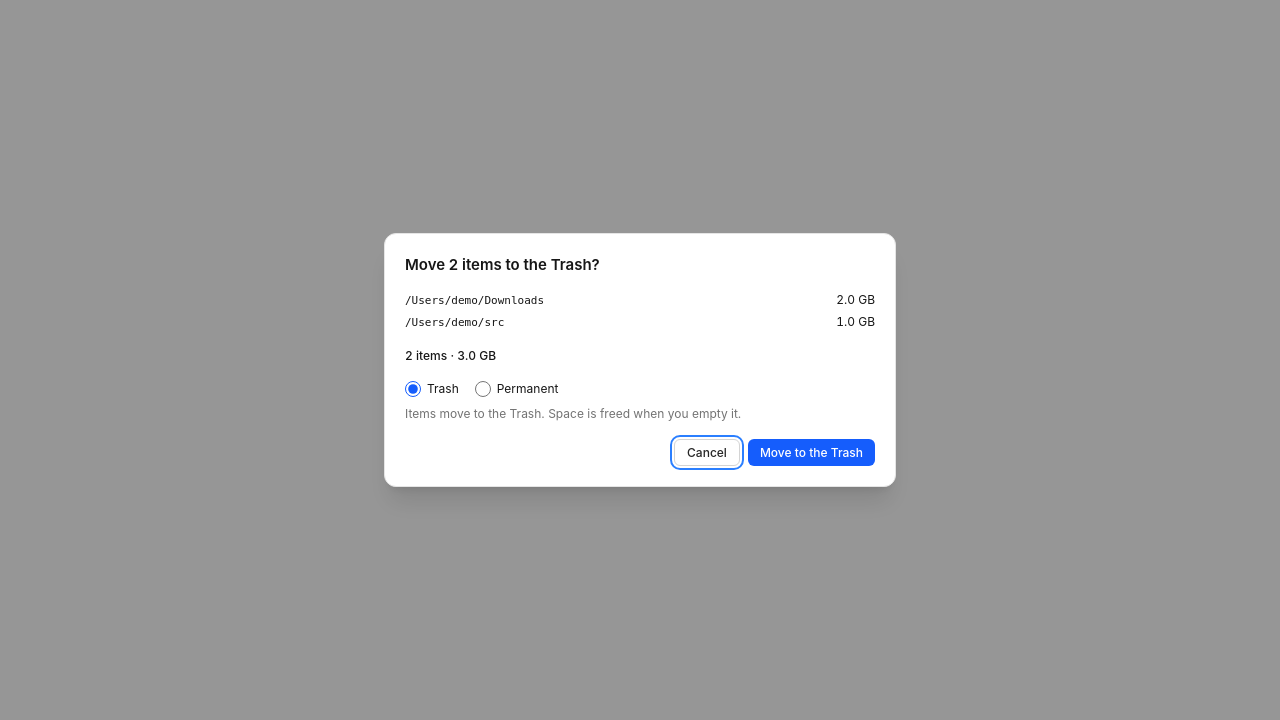
Test: ConfirmDeleteDialog › forgets the acknowledgement when the mode goes back to the Trash
Click the radio button labelled "Permanent".
click(483, 389)  # box [475,381,491,397]
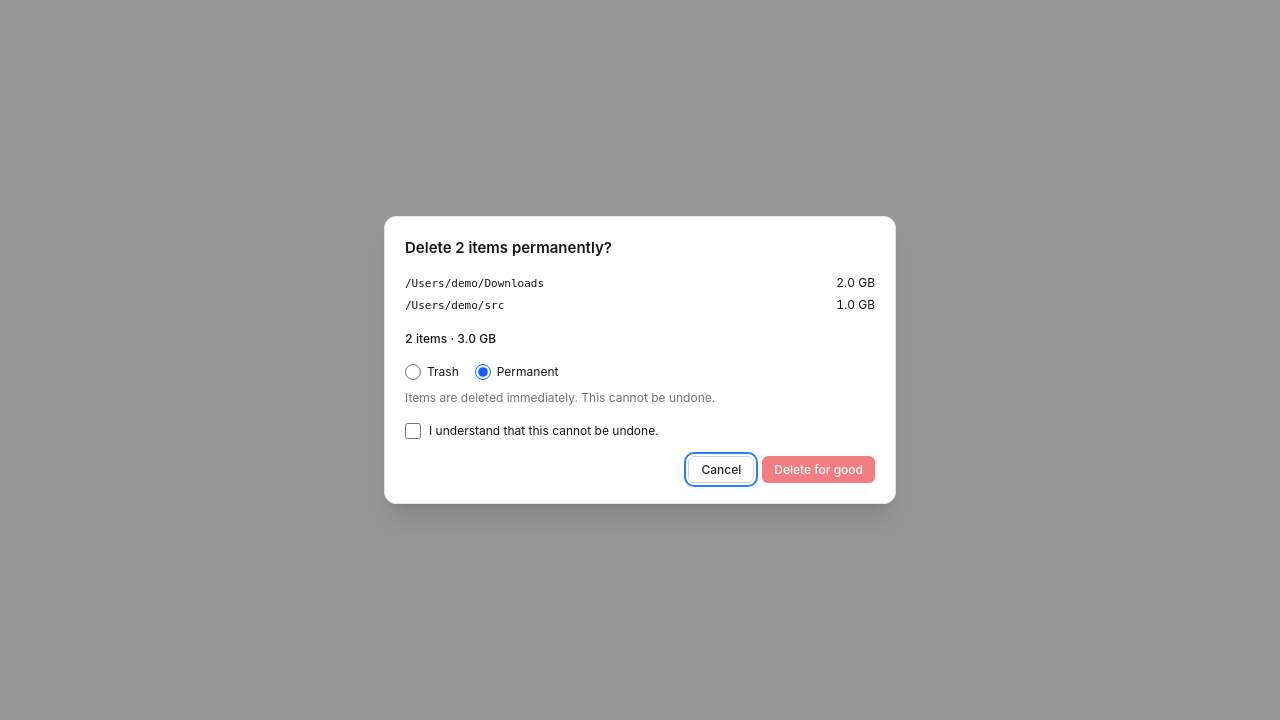
Click the checkbox.
click(413, 431)  # box [405,423,421,439]
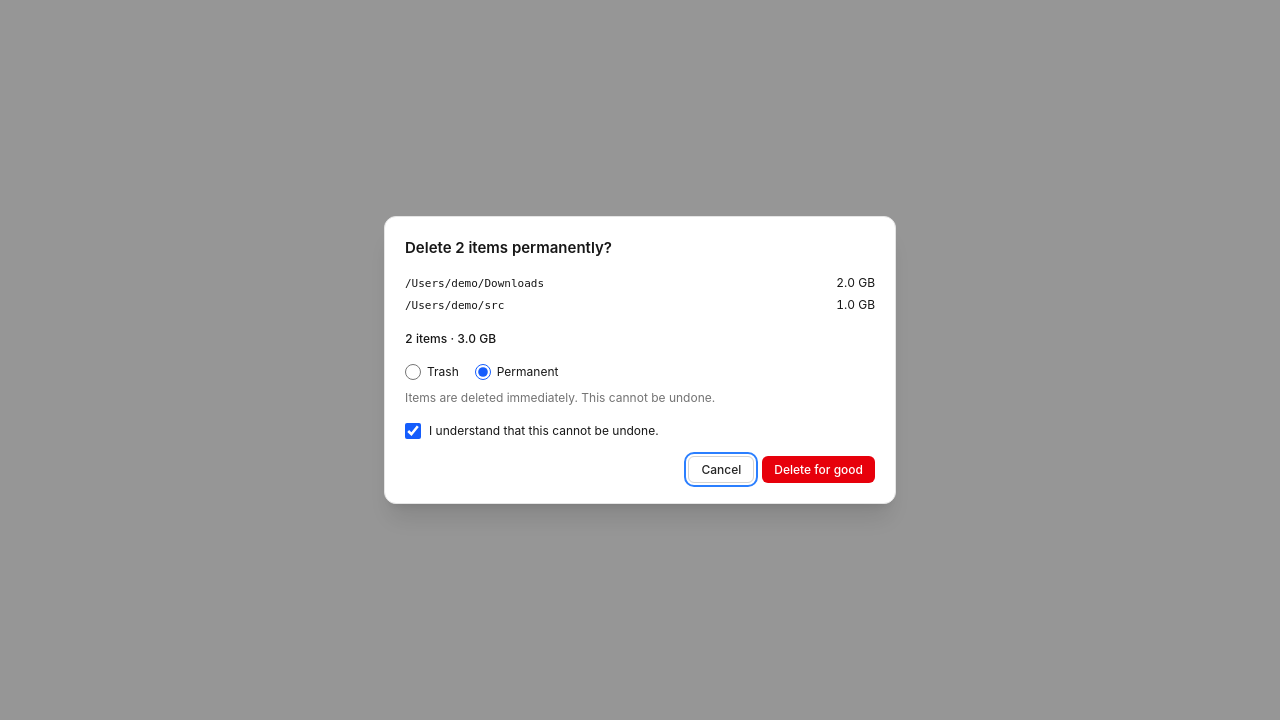
expect the button with test id "confirm-delete" is enabled: met, box [762,456,875,483]
Click the radio button labelled "Trash".
click(413, 372)  # box [405,364,421,380]
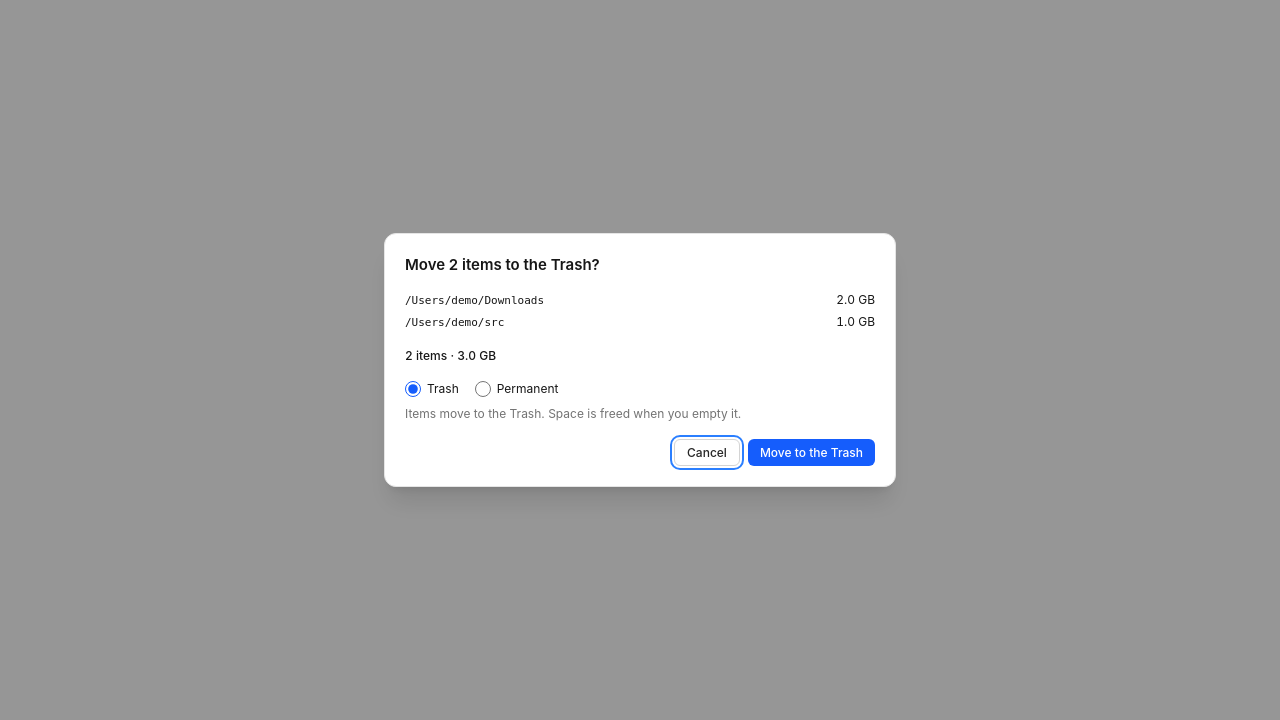
expect the button with test id "confirm-delete" is enabled: met, box [748,439,875,466]
expect the button with test id "confirm-delete" reads "Move to the Trash": met, box [748,439,875,466]
Click the radio button labelled "Permanent".
click(483, 389)  # box [475,381,491,397]
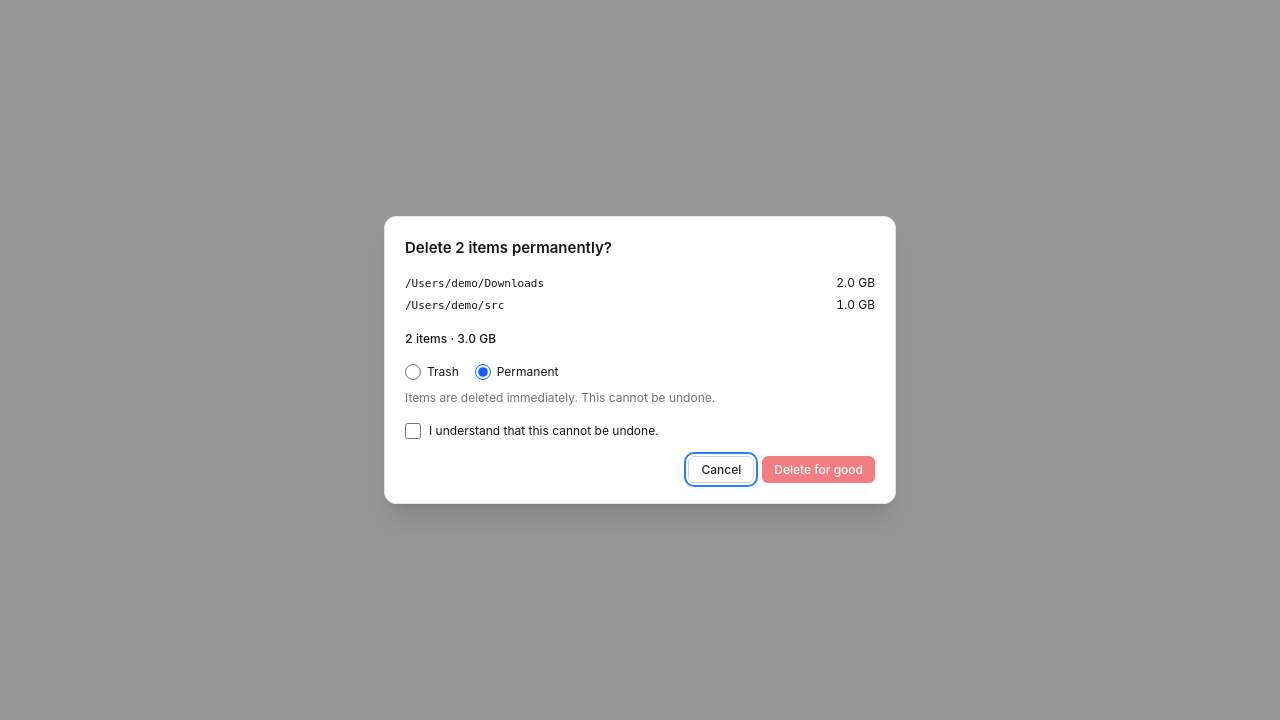
expect the checkbox is not checked: met, box [405,423,421,439]
expect the button with test id "confirm-delete" is disabled: met, box [762,456,875,483]
